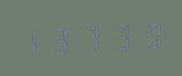one: (18, 23, 46, 58)
seven: (76, 20, 104, 55)
three: (47, 22, 75, 56), (105, 19, 133, 53)
zero: (134, 17, 162, 52)
